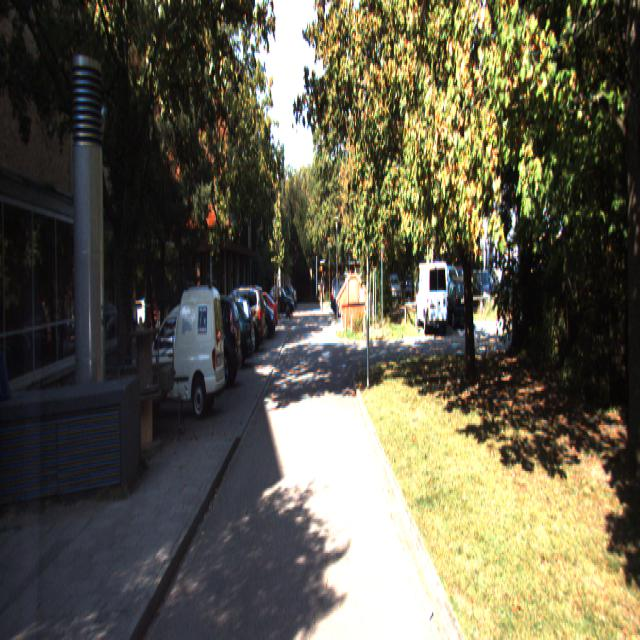Car: (133, 282, 226, 423), (166, 293, 244, 393), (193, 299, 255, 370), (209, 286, 266, 356), (205, 299, 254, 365), (415, 260, 449, 337), (442, 276, 472, 330)
